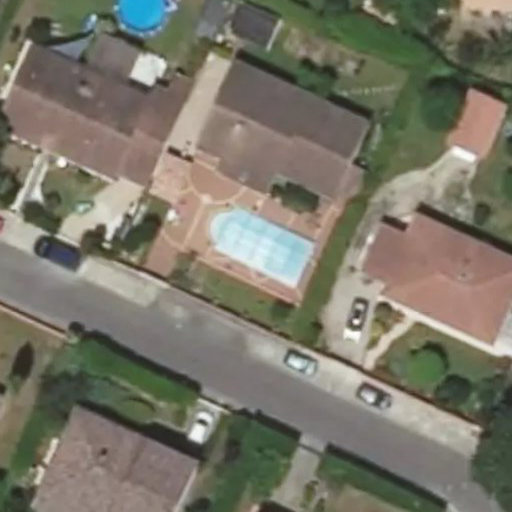pool: (210, 240, 302, 243)
